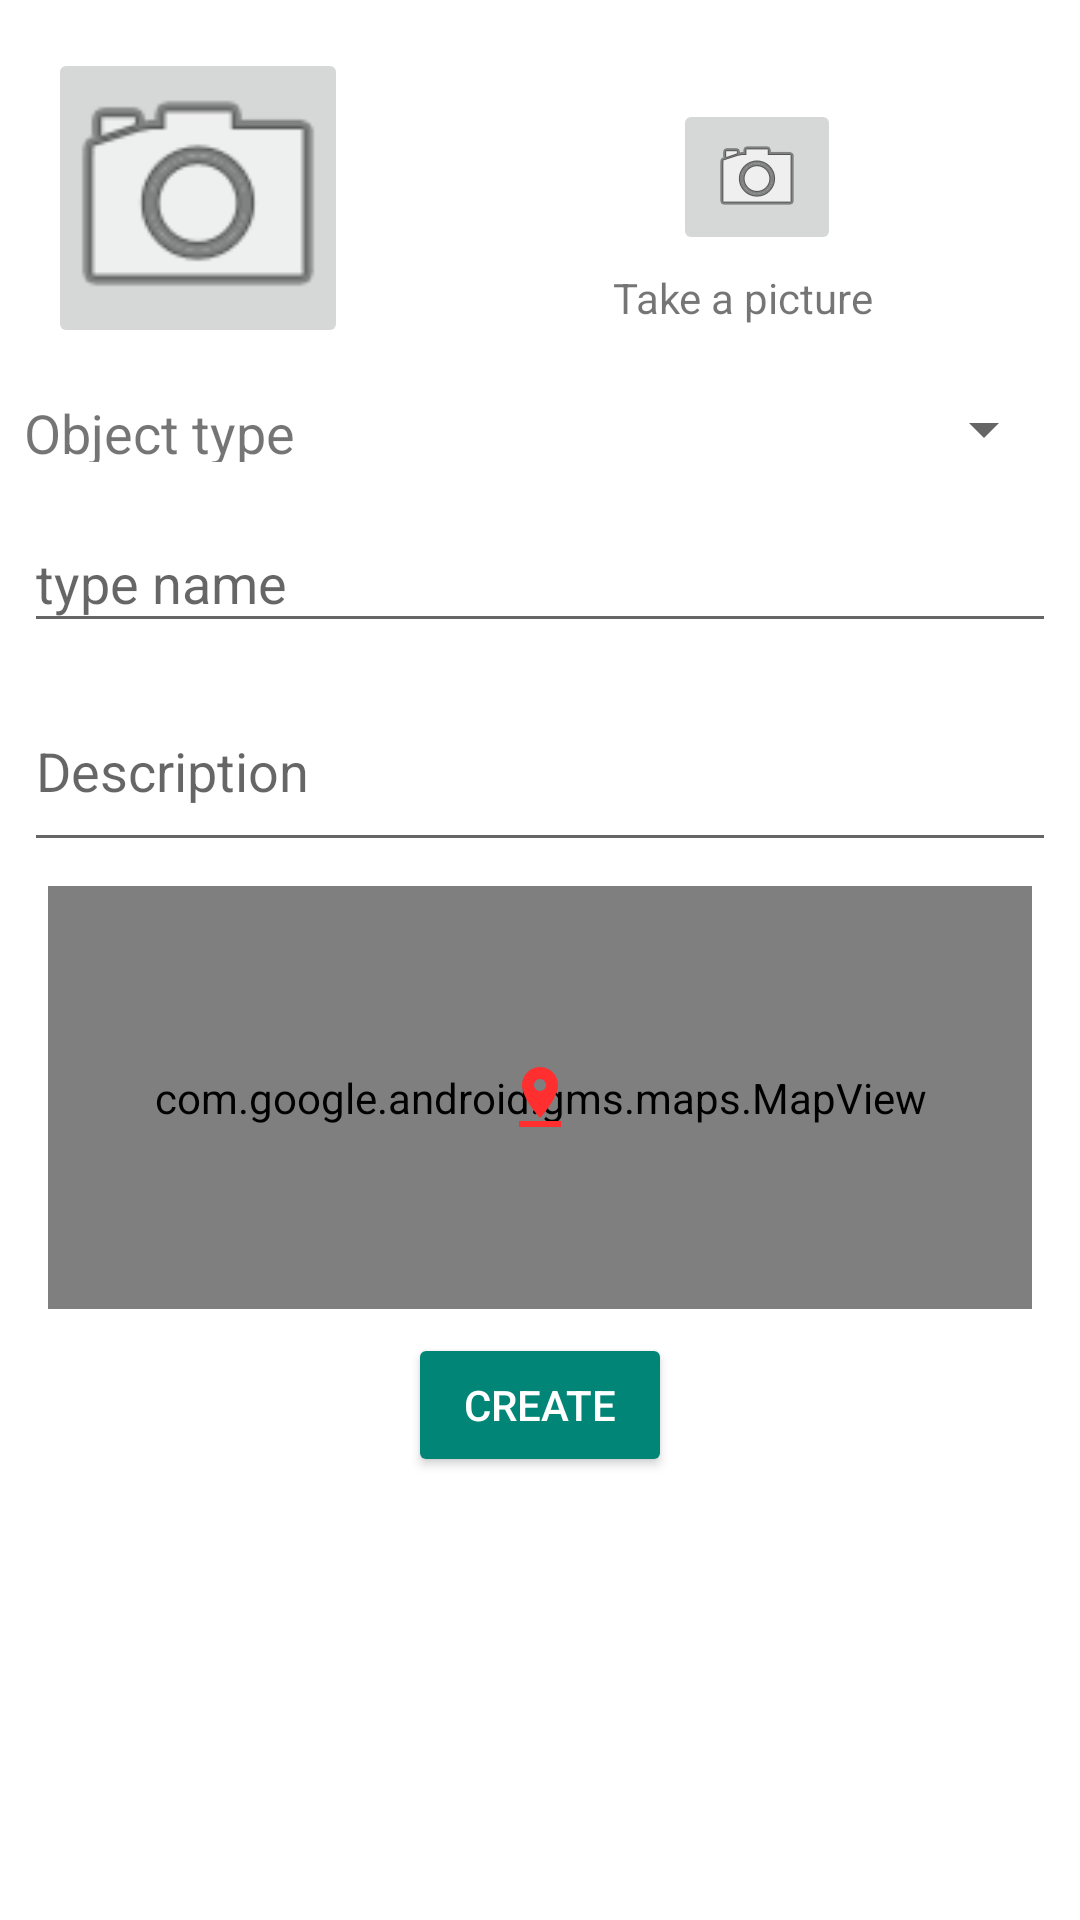

Locate icon controls on the screen. Image size 1080 x 1920, boxes as (x1, y1, x2, y2).
camera: (60, 66, 336, 330), (685, 117, 829, 237)
pin drop: (508, 1067, 562, 1127)
